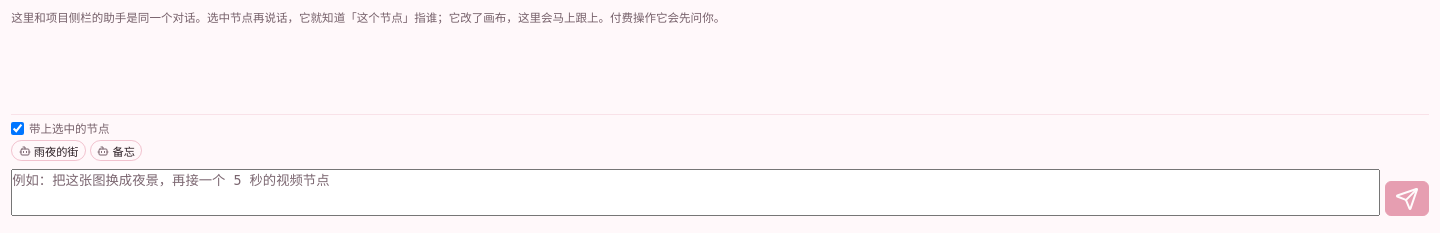
the assistant inside the canvas › sends on Enter, not on Shift + Enter, and nothing when there is nothing to send
Press Enter in the text box named "对助手说", box left=11, top=169, right=1380, bottom=216
Type "第一行" into the text box named "对助手说" at (695, 193), box left=11, top=169, right=1380, bottom=216
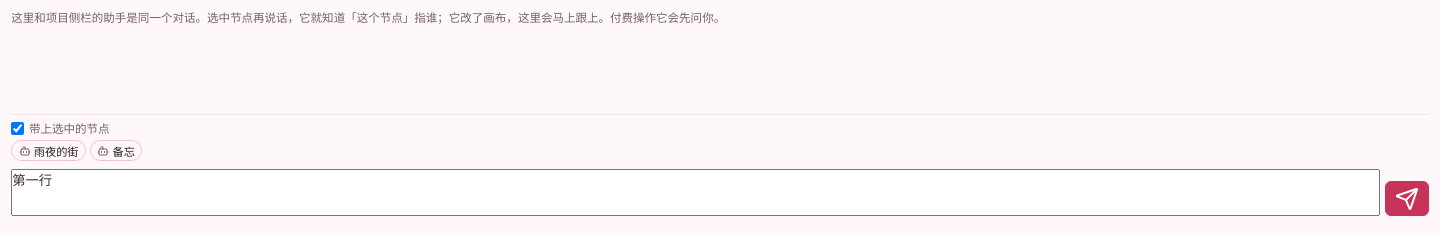
Press Enter in the text box named "对助手说", box left=11, top=169, right=1380, bottom=216
Press Enter in the text box named "对助手说", box left=11, top=169, right=1380, bottom=216
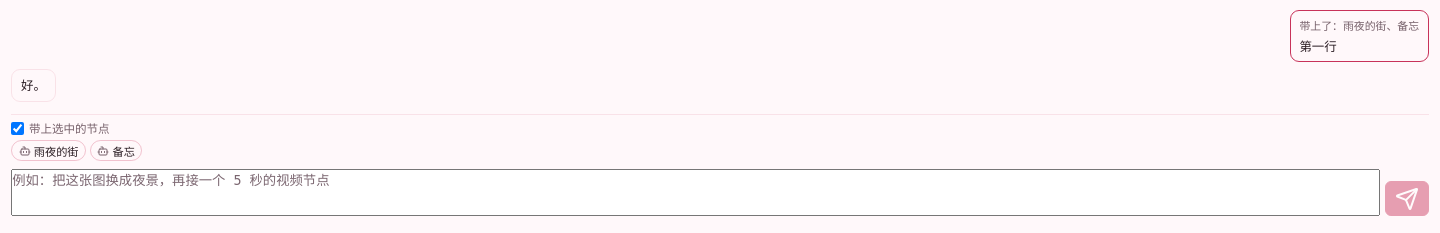
Now the text "好。" is shown, box left=21, top=76, right=46, bottom=94
